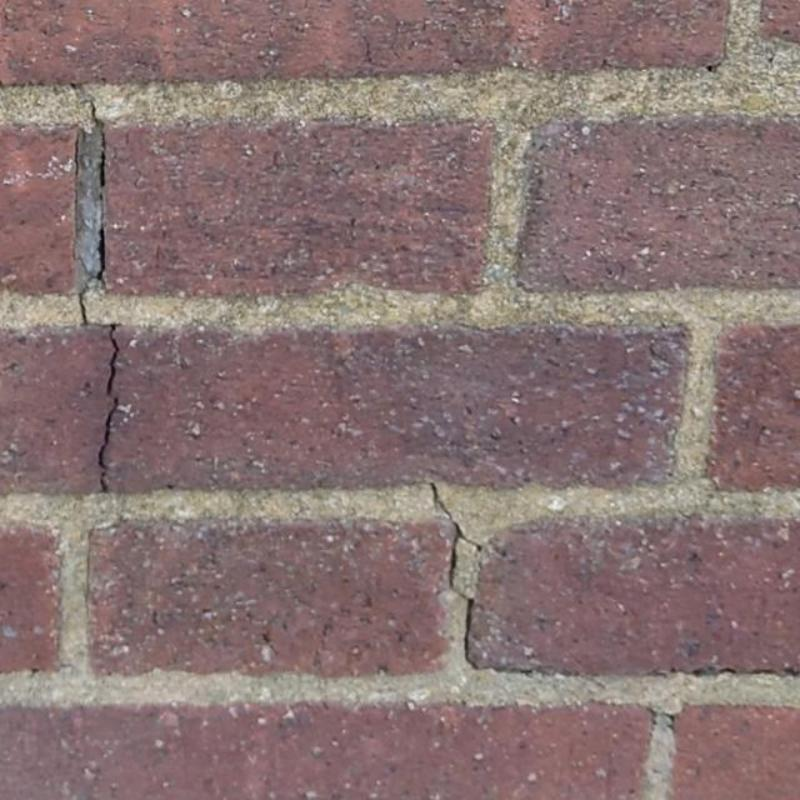pothole: (79, 292, 122, 494), (428, 482, 483, 591), (69, 83, 105, 189), (457, 592, 479, 670), (94, 228, 103, 280), (652, 712, 675, 720)
